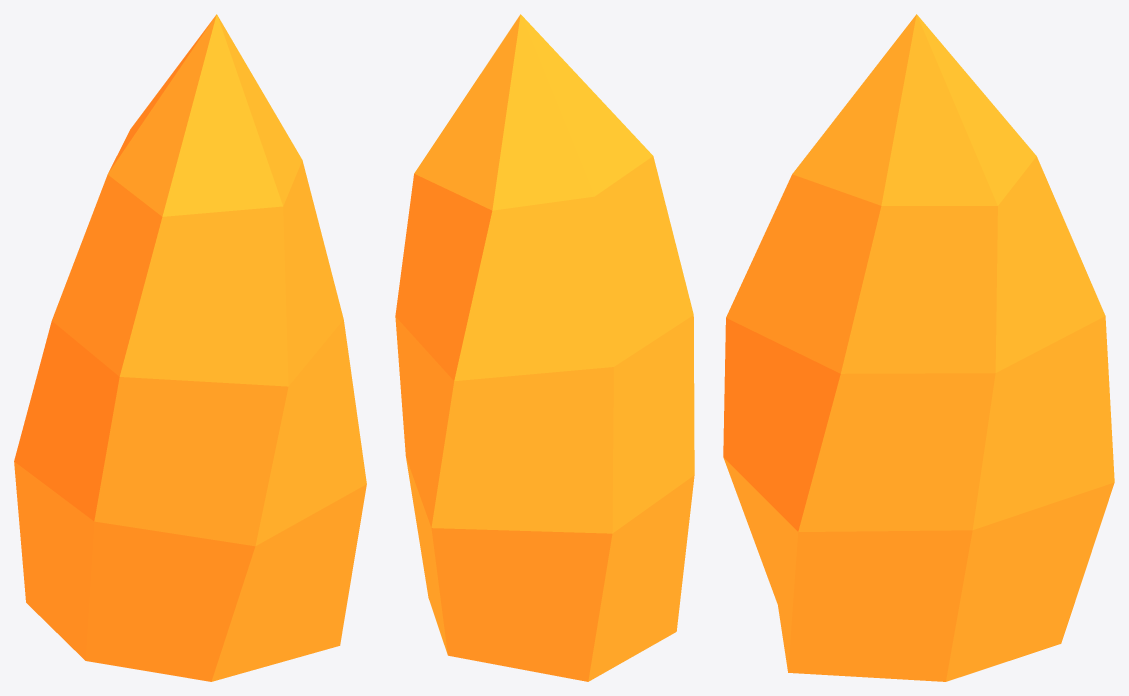
The model's file is unit_flame_shard.glb.
3 views of the same model, side by side, from view 1: azimuth 30°, elevation 25°; view 2: azimuth 150°, elevation 25°; view 3: azimuth 270°, elevation 25° (orthographic). The views are drawn at different scales.
Parts seen in each view (by area): view 1: unit_flame_shard_flame; view 2: unit_flame_shard_flame; view 3: unit_flame_shard_flame.
Boxes of the visible parts, x1=… form: unit_flame_shard_flame: x1=14, y1=14, x2=366, y2=681; unit_flame_shard_flame: x1=395, y1=14, x2=694, y2=681; unit_flame_shard_flame: x1=723, y1=14, x2=1114, y2=681.
Bounding box in the file's own units: 0.4224 × 1 × 0.5654.
